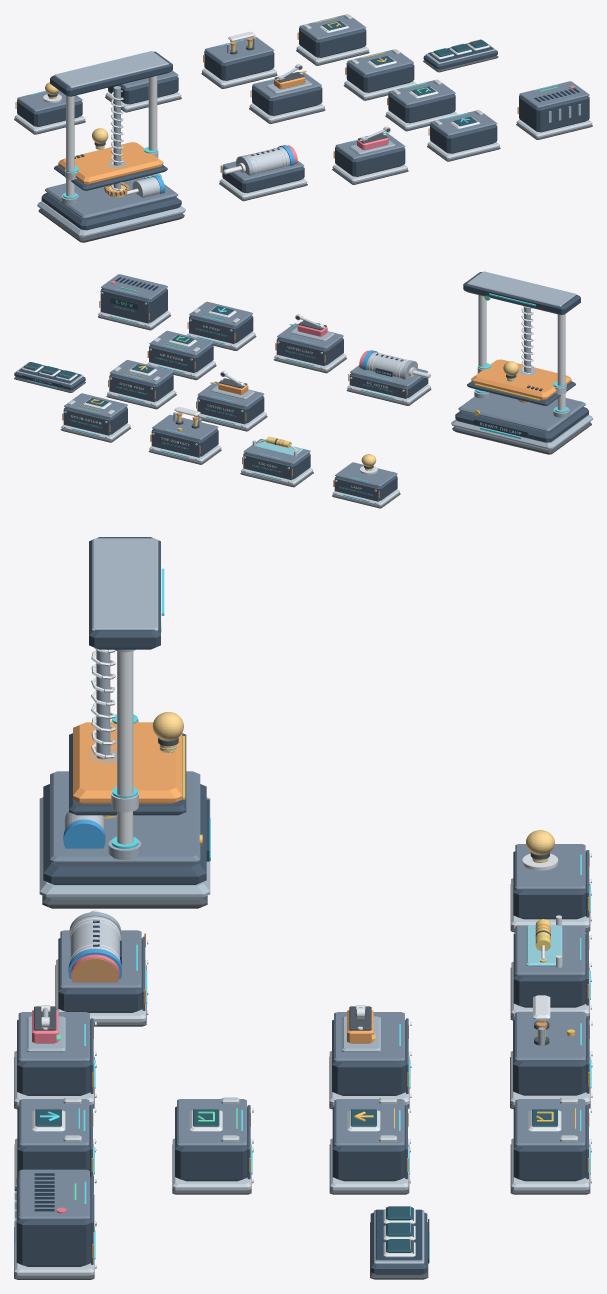
The model's file is Level30_Fitted_Assembly.fbx.
3 views of the same model, one above another, from view 1: azimuth 30°, elevation 25°; view 2: azimuth 150°, elevation 25°; view 3: azimuth 270°, elevation 25° (orthographic). The views are drawn at different scales.
Visible parts, largest first — view 1: L30_Lift_Static__steel, L30_Lift_Static__graphite, L30_Lift_Platform__orange, L30_Lift_Static__mid_steel, L30_Supply_Static__graphite, L30_Lift_Static__chrome, L30_Motor_Static__titanium, L30_Top_Static__graphite, L30_Lower_Static__graphite, L30_Upper_Static__graphite, L30_DownFeed_Static__graphite, L30_UpFeed_Static__graphite (+32 smaller); view 2: L30_Lift_Static__steel, L30_Lift_Static__mid_steel, L30_Lift_Static__graphite, L30_Lift_Platform__orange, L30_Lift_Static__chrome, L30_Motor_Static__titanium, L30_Supply_Static__deep_steel, L30_Supply_Static__mid_steel, L30_Top_Static__mid_steel, L30_Top_Static__deep_steel, L30_Upper_Static__deep_steel, L30_Lower_Static__deep_steel (+46 smaller); view 3: L30_Lift_Static__steel, L30_Lift_Static__mid_steel, L30_Lift_Static__graphite, L30_Lift_Platform__orange, L30_Supply_Static__graphite, L30_Supply_Static__mid_steel, L30_Top_Static__mid_steel, L30_Lift_Static__chrome, L30_DownReturn_Static__graphite, L30_DownFeed_Static__graphite, L30_Top_Static__graphite, L30_UpReturn_Static__graphite (+27 smaller).
Boxes of the visible parts, left/top/right/bottom form: L30_Lift_Static__steel: left=37, top=51, right=185, bottom=237; L30_Lift_Static__graphite: left=41, top=51, right=181, bottom=230; L30_Lift_Platform__orange: left=58, top=142, right=163, bottom=184; L30_Lift_Static__mid_steel: left=45, top=177, right=178, bottom=218; L30_Supply_Static__graphite: left=519, top=96, right=589, bottom=132; L30_Lift_Static__chrome: left=66, top=76, right=157, bottom=196; L30_Motor_Static__titanium: left=219, top=147, right=307, bottom=198; L30_Top_Static__graphite: left=204, top=51, right=274, bottom=80; L30_Lower_Static__graphite: left=252, top=87, right=322, bottom=115; L30_Upper_Static__graphite: left=335, top=147, right=405, bottom=176; L30_DownFeed_Static__graphite: left=347, top=63, right=414, bottom=92; L30_UpFeed_Static__graphite: left=430, top=124, right=497, bottom=153; L30_Lift_Static__steel: left=451, top=271, right=592, bottom=449; L30_Lift_Static__mid_steel: left=458, top=393, right=585, bottom=431; L30_Lift_Static__graphite: left=455, top=272, right=588, bottom=442; L30_Lift_Platform__orange: left=471, top=359, right=571, bottom=399; L30_Lift_Static__chrome: left=478, top=295, right=565, bottom=410; L30_Motor_Static__titanium: left=347, top=352, right=430, bottom=403; L30_Supply_Static__deep_steel: left=100, top=290, right=149, bottom=323; L30_Supply_Static__mid_steel: left=101, top=274, right=167, bottom=303; L30_Top_Static__mid_steel: left=152, top=414, right=218, bottom=459; L30_Top_Static__deep_steel: left=151, top=430, right=199, bottom=457; L30_Upper_Static__deep_steel: left=276, top=339, right=324, bottom=366; L30_Lower_Static__deep_steel: left=197, top=397, right=245, bottom=424; L30_Lift_Static__steel: left=39, top=538, right=210, bottom=899; L30_Lift_Static__mid_steel: left=50, top=771, right=200, bottom=864; L30_Lift_Static__graphite: left=43, top=537, right=206, bottom=884; L30_Lift_Platform__orange: left=73, top=722, right=182, bottom=803; L30_Supply_Static__graphite: left=16, top=1177, right=90, bottom=1266; L30_Supply_Static__mid_steel: left=18, top=1169, right=96, bottom=1266; L30_Top_Static__mid_steel: left=515, top=1011, right=585, bottom=1061; L30_Lift_Static__chrome: left=117, top=651, right=133, bottom=844; L30_DownReturn_Static__graphite: left=513, top=1106, right=586, bottom=1181; L30_DownFeed_Static__graphite: left=332, top=1107, right=405, bottom=1181; L30_Top_Static__graphite: left=513, top=1019, right=586, bottom=1095; L30_UpReturn_Static__graphite: left=175, top=1106, right=247, bottom=1181.
Bounding box in the file's own units: 190 × 52.76 × 99.2.
